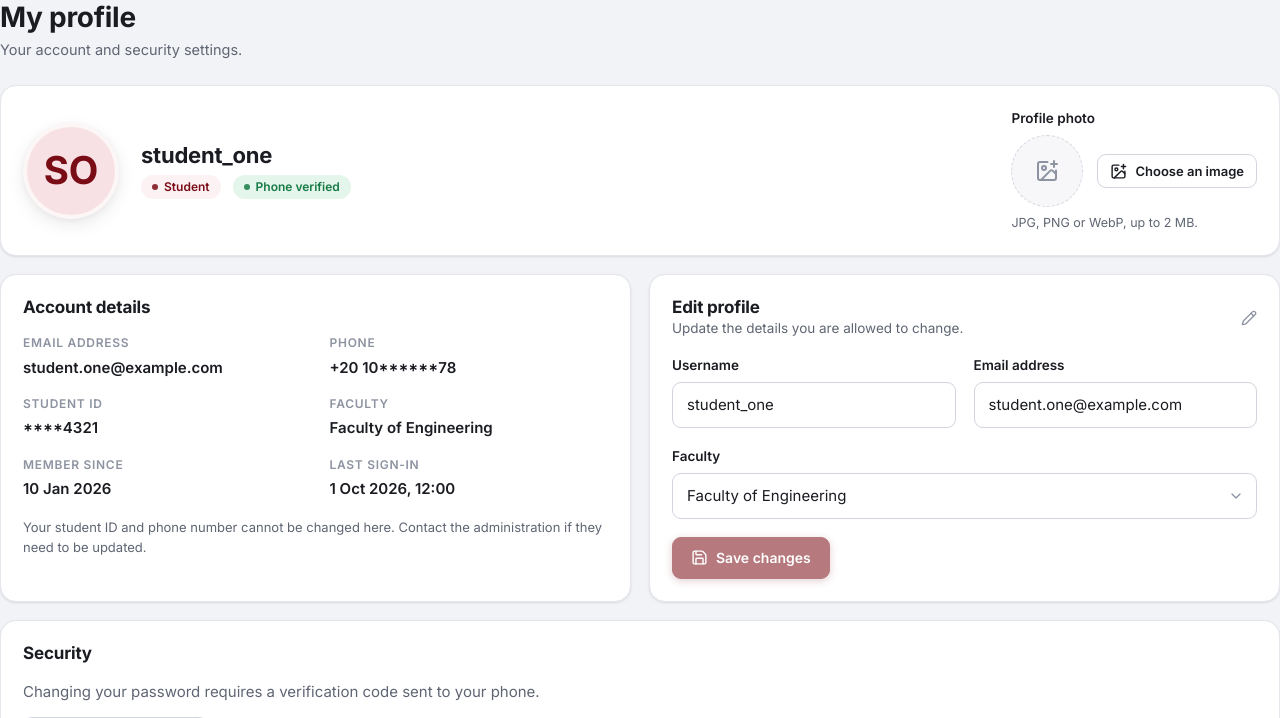
Test: Profile page › sends only the changed fields and shows the updated profile
This screenshot has width=1280, height=718.
Expected: the heading "My profile" is shown, [0,0,136,34]
Replace the text in the field labelled "Username" with "student_renamed". click: (814, 405)
box: [672,382,956,428]
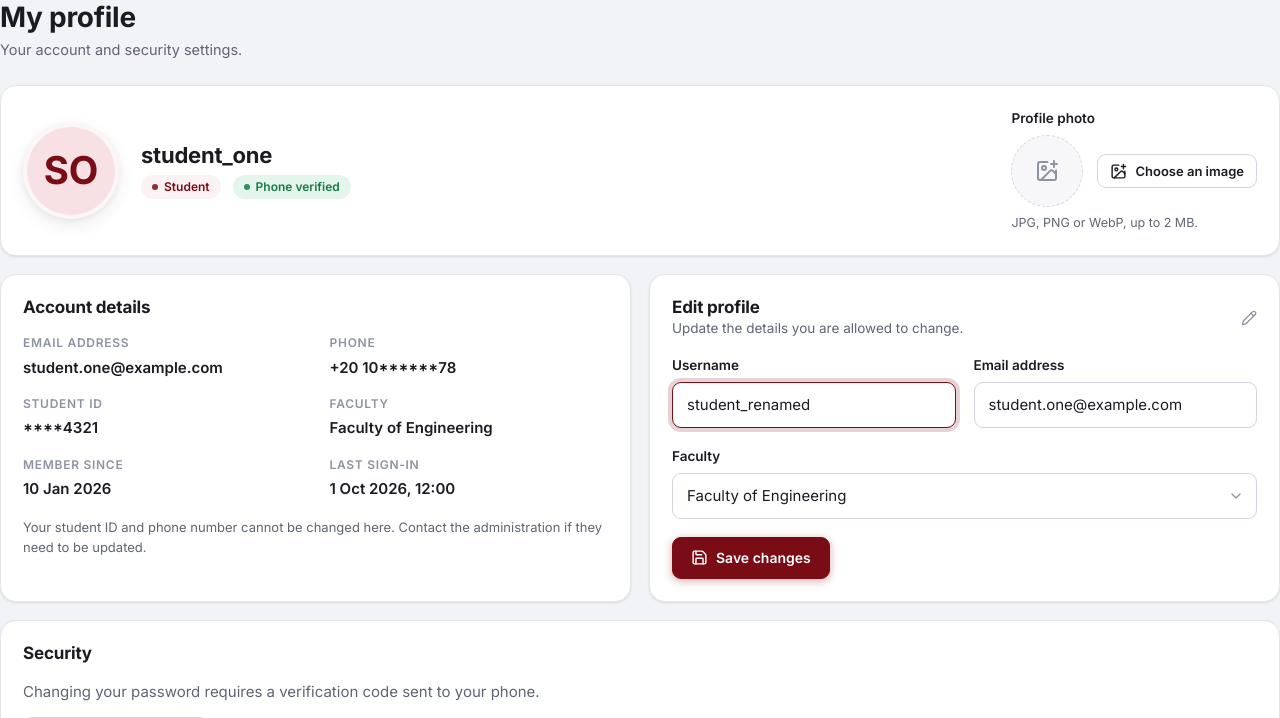
Click the button "Save changes". click: (751, 558)
box: [672,537,830,579]
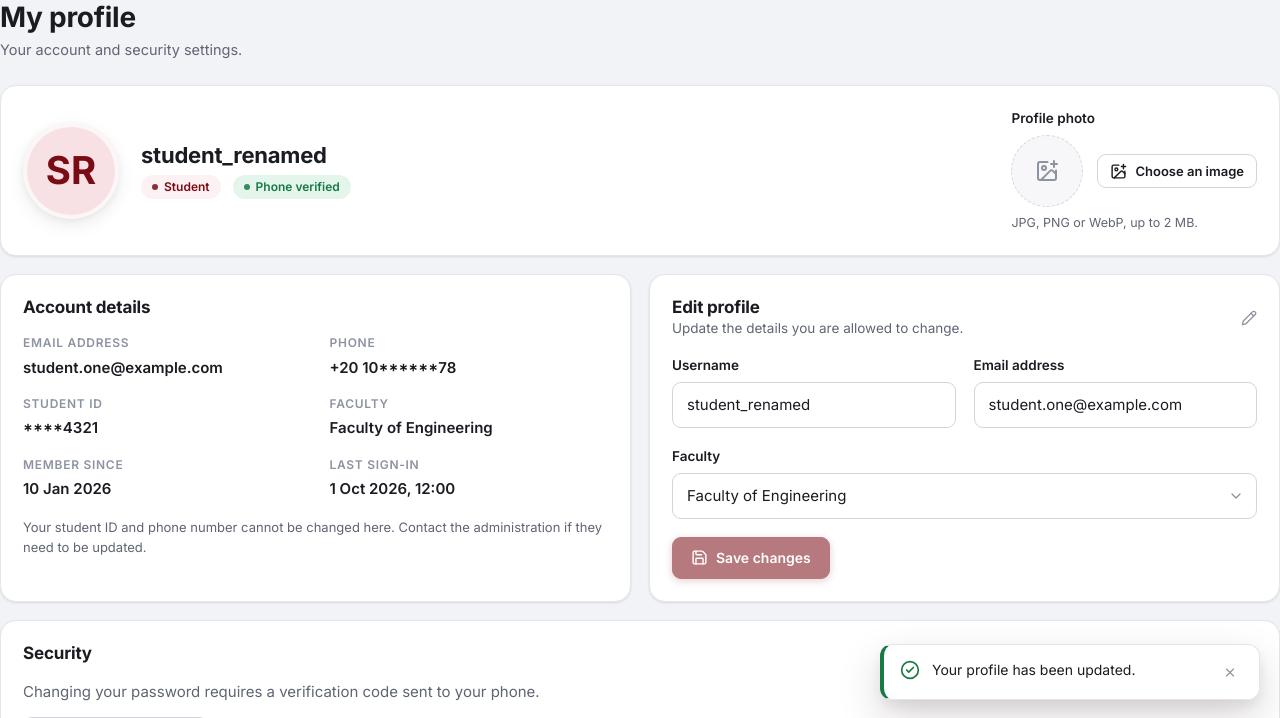
Result: the text "Your profile has been updated." is shown at [932,661,1136,678]
Result: the heading "student_renamed" is shown at [141,142,327,168]
